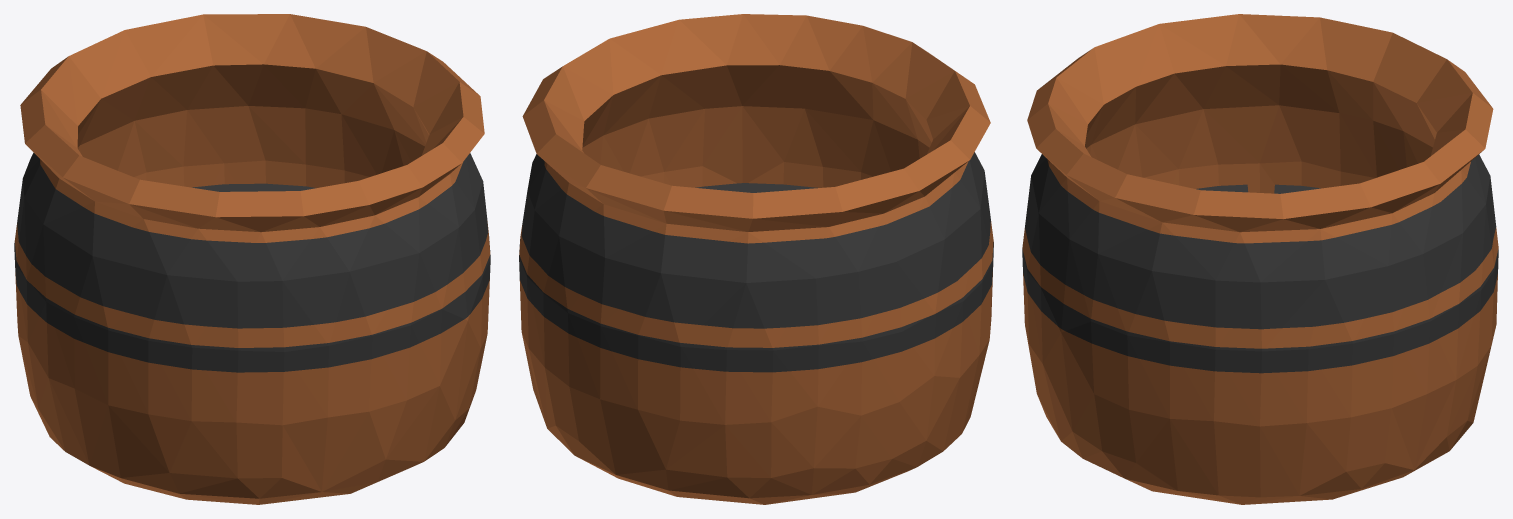
Rendered from Pottery 14_1.fbx.
3 renders of one model, left to right at view 1: azimuth 30°, elevation 25°; view 2: azimuth 150°, elevation 25°; view 3: azimuth 270°, elevation 25°, orthographic.
Parts seen in each view (by area): view 1: Pottery 14_1; view 2: Pottery 14_1; view 3: Pottery 14_1.
Part boxes in pixels (x1,y1,x2,y2): Pottery 14_1: (14,14,490,504); Pottery 14_1: (519,14,993,504); Pottery 14_1: (1022,14,1498,504).
Bounding box in the file's own units: 51.71 × 39.4 × 51.68.
